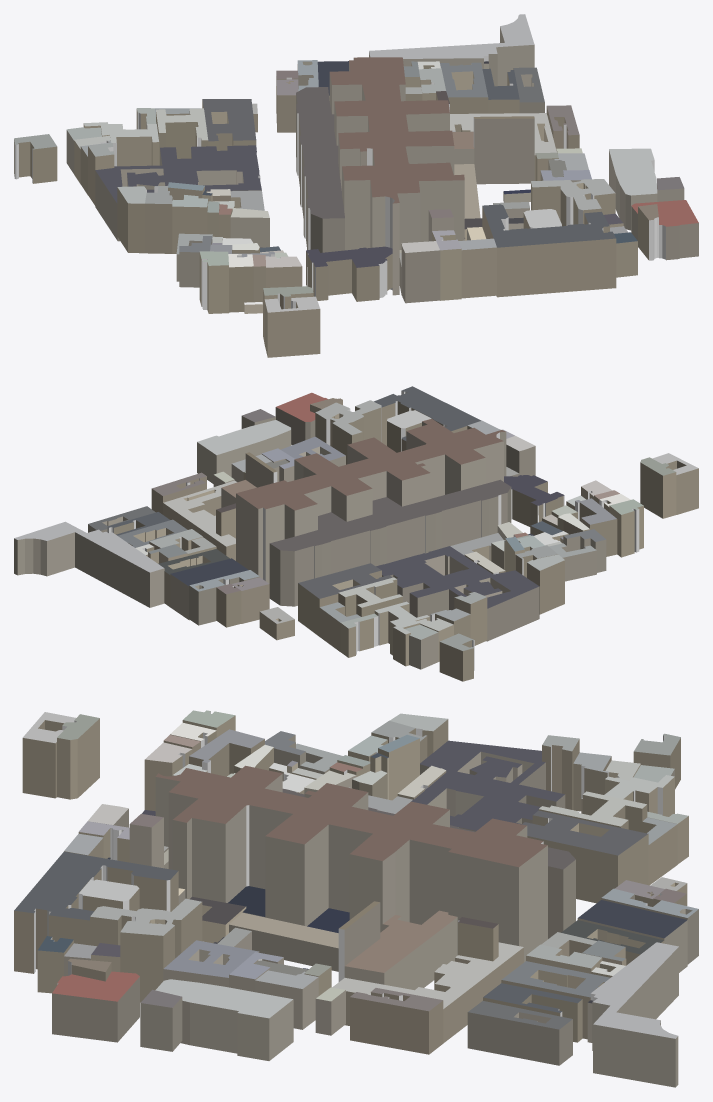
3 views of the same model, one above another, from view 1: azimuth 30°, elevation 25°; view 2: azimuth 150°, elevation 25°; view 3: azimuth 270°, elevation 25° (orthographic). The views are drawn at different scales.
Visible parts, largest first — view 1: tuile; view 2: tuile; view 3: tuile.
Boxes of the visible parts, x1=… form: tuile: x1=14, y1=14, x2=698, y2=357; tuile: x1=14, y1=386, x2=698, y2=681; tuile: x1=14, y1=710, x2=698, y2=1087.
Size of the model in its own units: 290 by 49.4 by 273.
